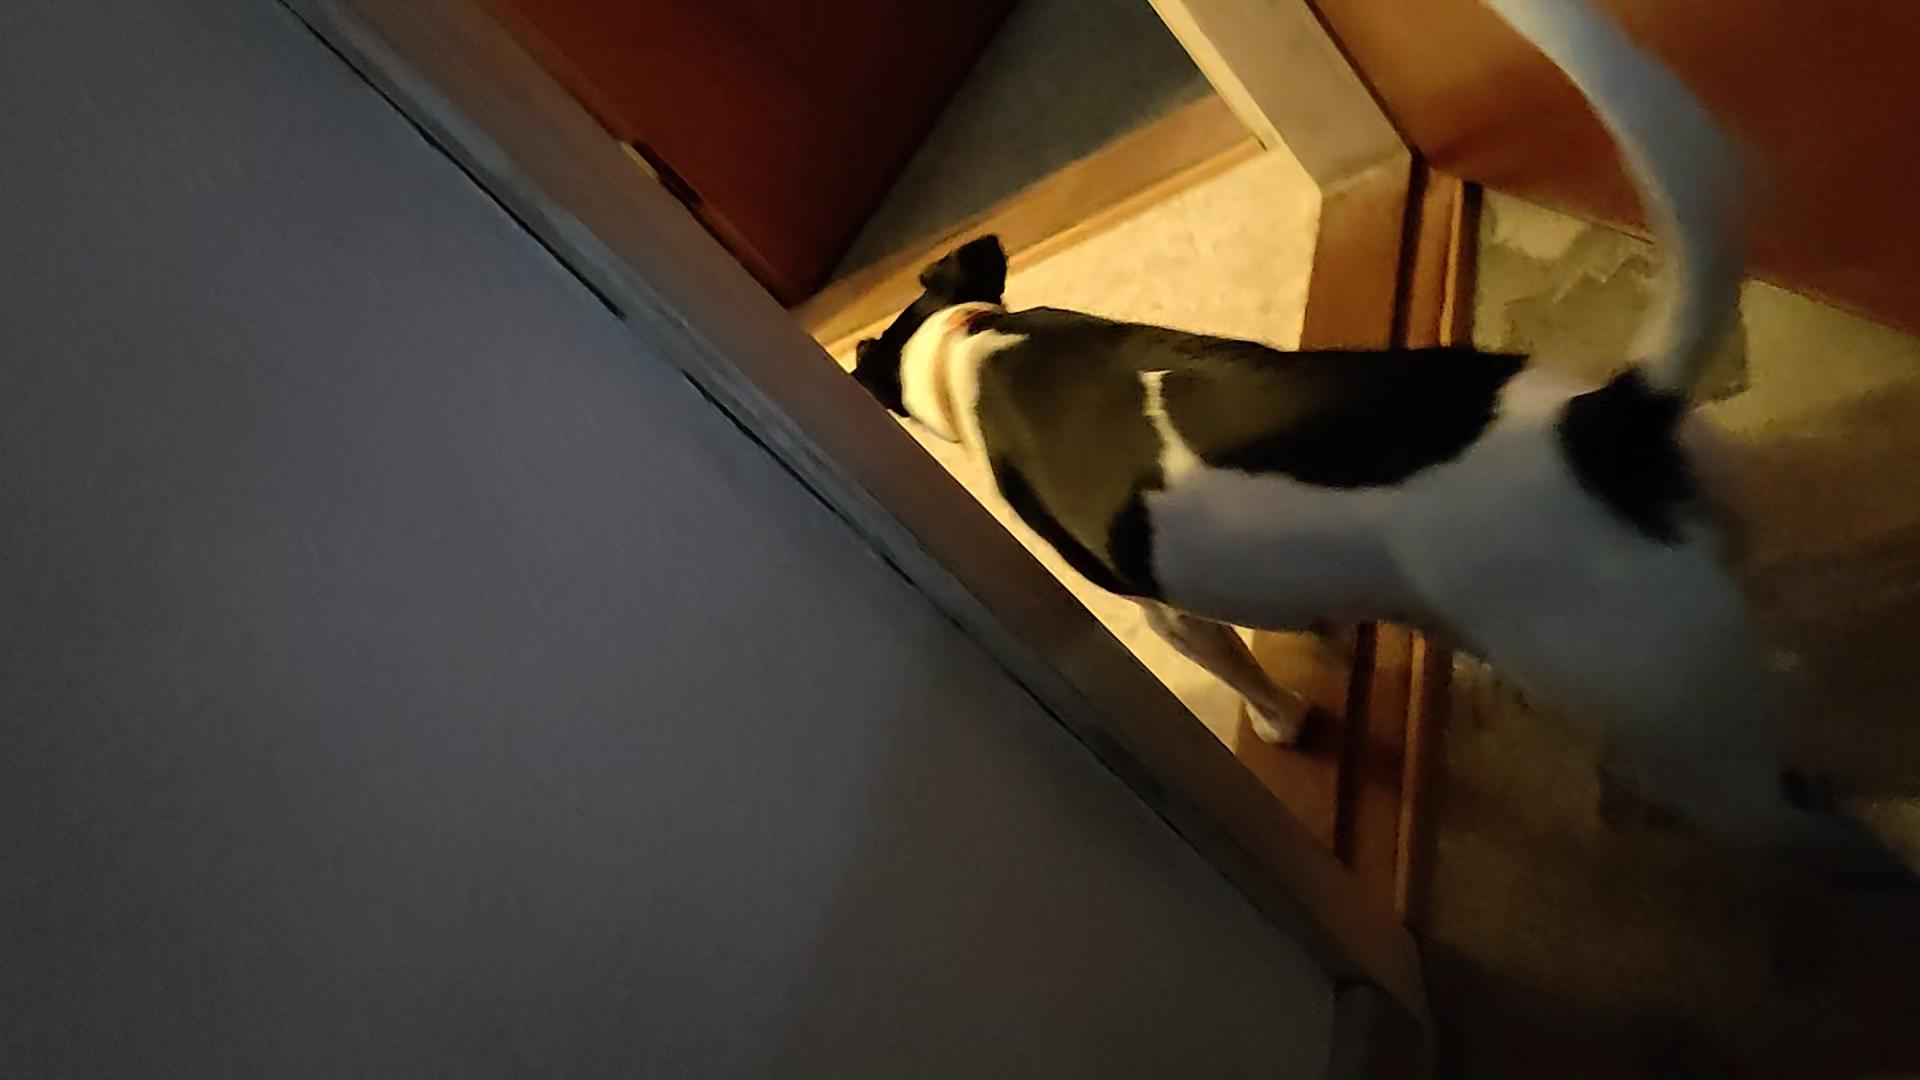Dog: (835, 0, 1919, 942)
